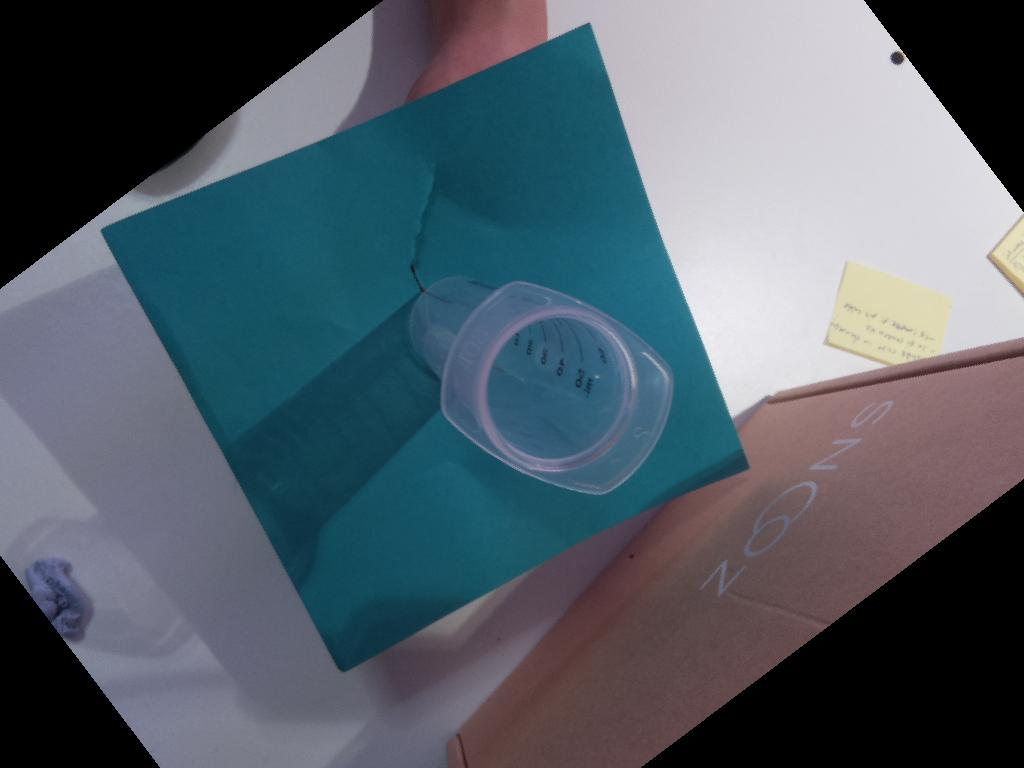clean: (438, 278, 676, 494)
